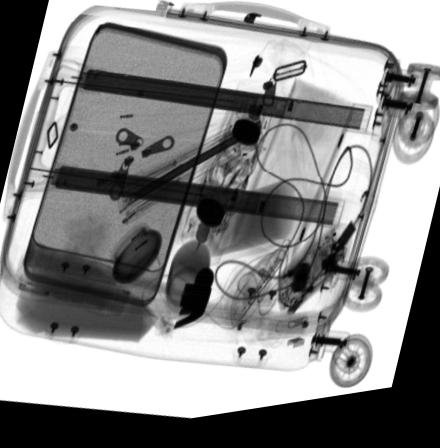Hammer: (15, 250, 213, 335)
